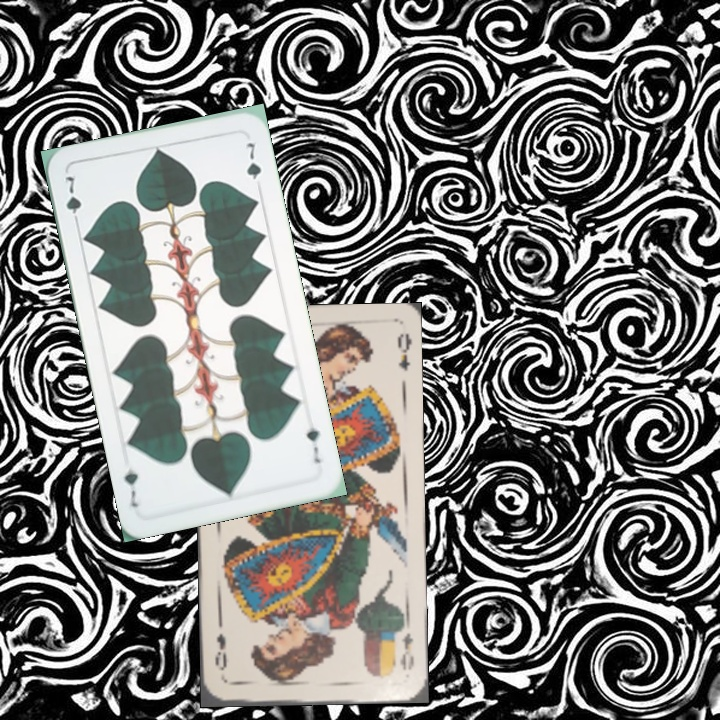EO: (396, 629, 417, 673)
G7: (61, 172, 85, 229), (302, 415, 324, 466)
